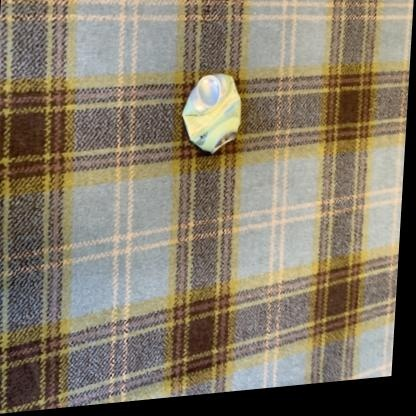trash: (182, 74, 240, 152)
